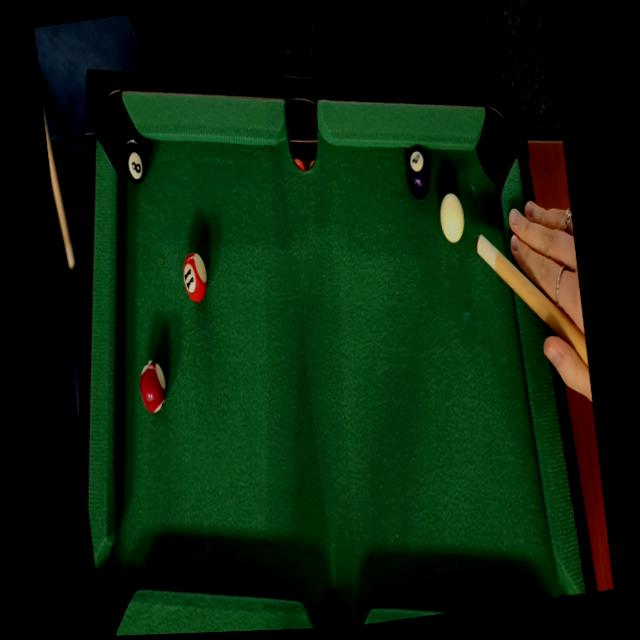cue ball: (434, 188, 466, 245)
other: (175, 244, 215, 314), (132, 348, 171, 419), (119, 133, 150, 188), (402, 142, 431, 199)
